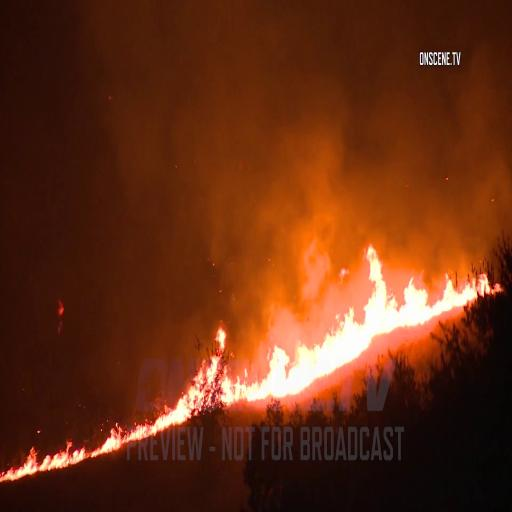fire: (266, 248, 385, 394)
smoke: (127, 6, 369, 220)
